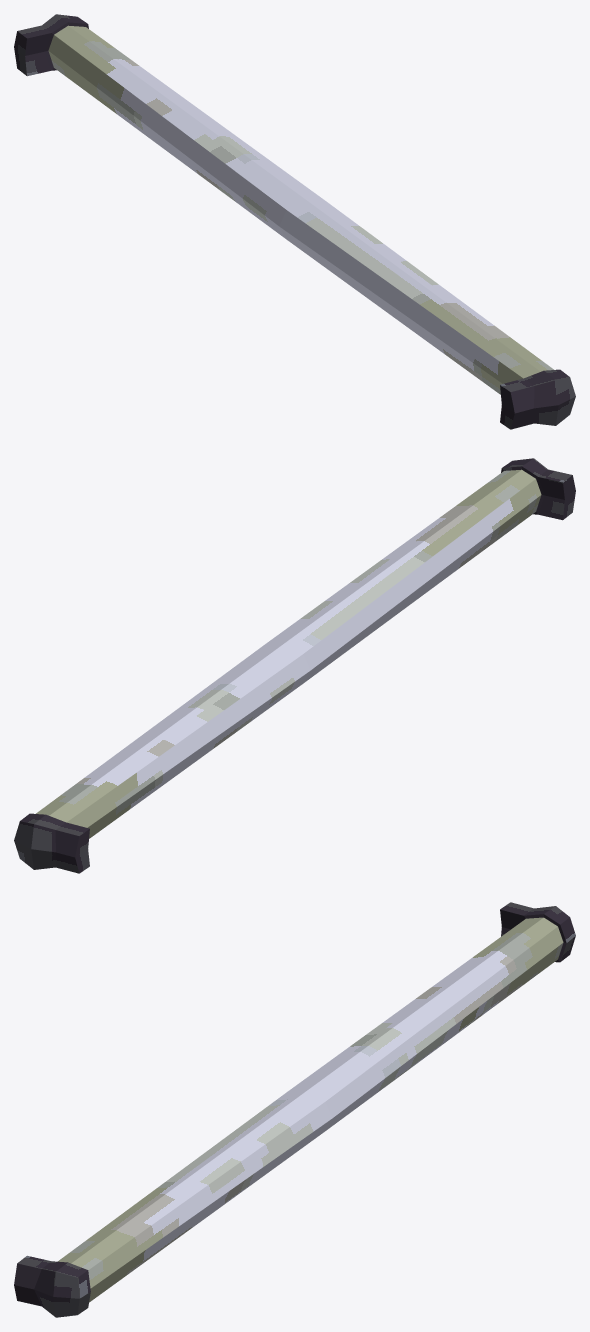
File: Light_2.fbx
The picture shows the model from 3 angles, top to bottom: view 1: azimuth 30°, elevation 25°; view 2: azimuth 150°, elevation 25°; view 3: azimuth 330°, elevation 25°; orthographic projection.
Parts seen in each view (by area): view 1: 2; view 2: 2; view 3: 2.
Part boxes in pixels (x1,y1,x2,y2): 2: (14, 14, 575, 429); 2: (14, 458, 575, 873); 2: (14, 902, 575, 1317).
Size of the model in its own units: 90.66 by 59.14 by 1148.
1 material, 1 textured.
